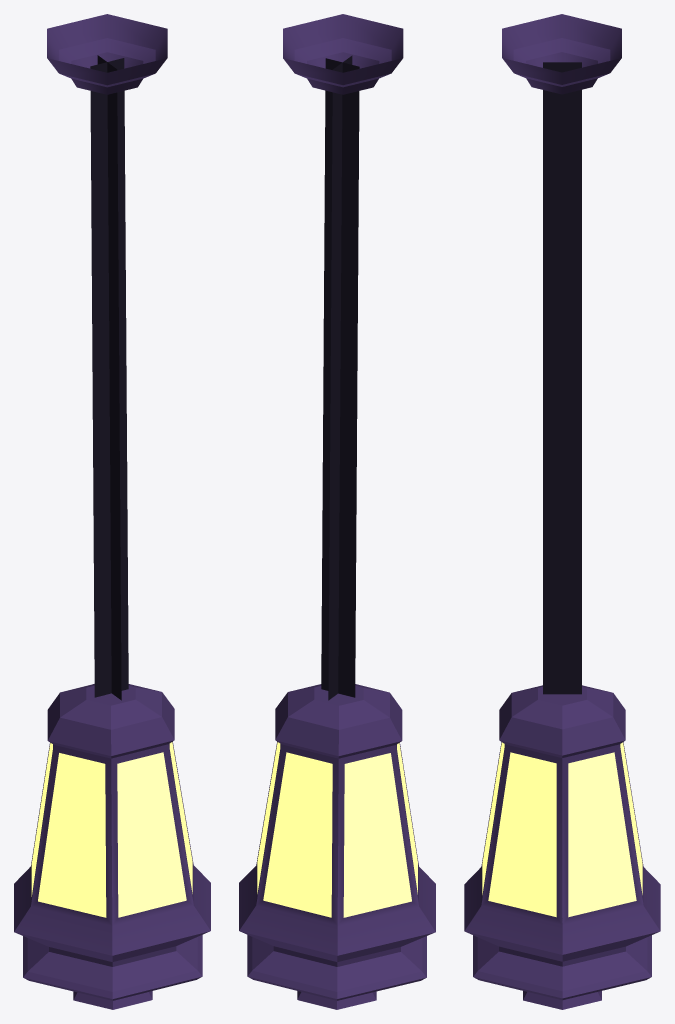
Rendered from Lamp01_Art.fbx.
3 views of the same model, side by side, from view 1: azimuth 30°, elevation 25°; view 2: azimuth 150°, elevation 25°; view 3: azimuth 270°, elevation 25° (orthographic).
Parts seen in each view (by area): view 1: Lamp01_Art; view 2: Lamp01_Art; view 3: Lamp01_Art.
Boxes of the visible parts, <box> form: Lamp01_Art: <box>14,14,210,1009</box>; Lamp01_Art: <box>239,14,435,1009</box>; Lamp01_Art: <box>464,14,660,1009</box>.
Size of the model in its own units: 0.7385 by 3.46 by 0.6396.
